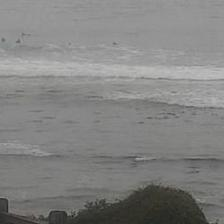surfer: (21, 32, 30, 36), (15, 39, 21, 44), (1, 36, 6, 41), (112, 42, 117, 46)
